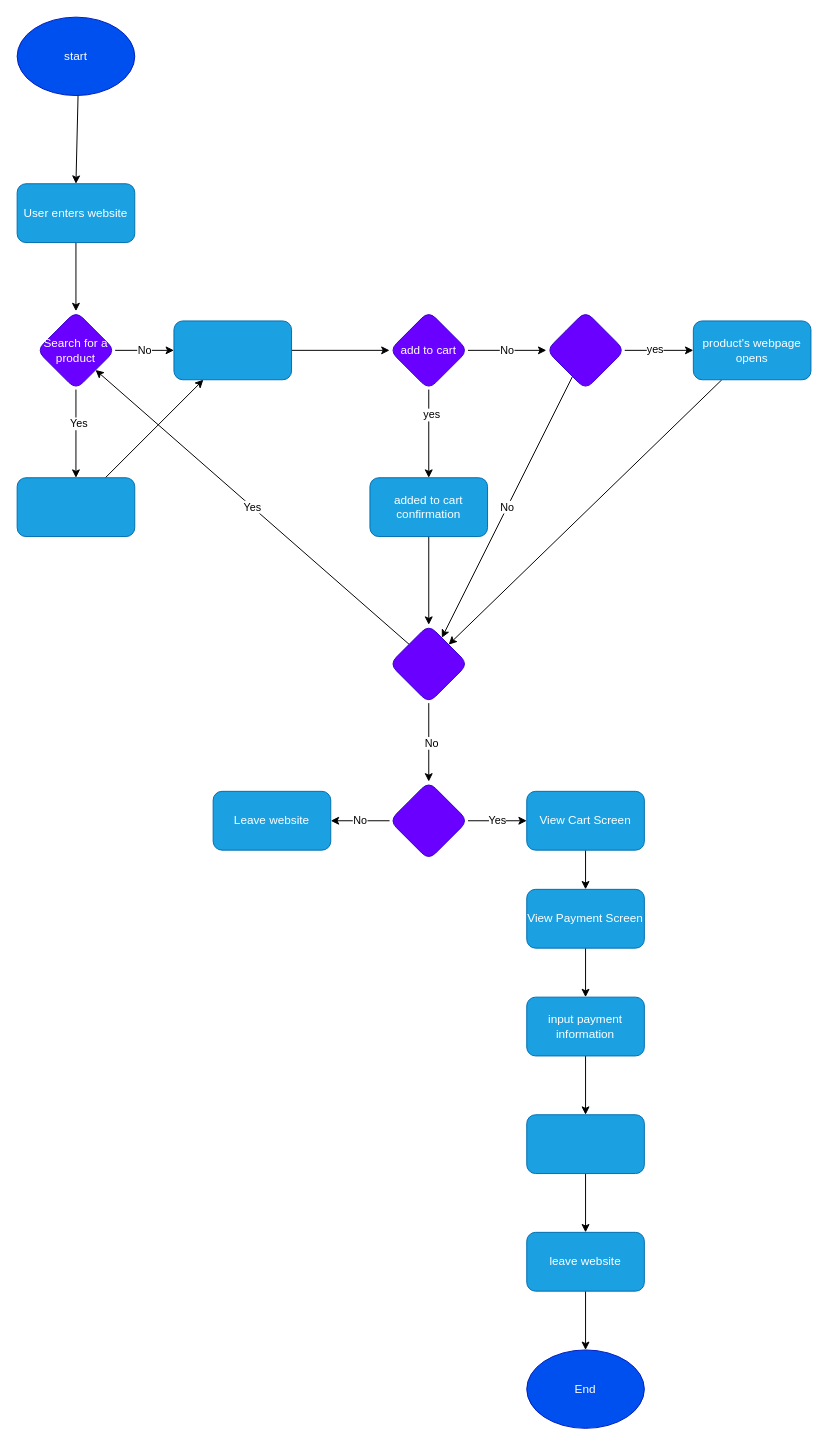
Image size: 828x1446. Some labels were removed from this diagram. Here are the shapes that lost their labels. From the top down, the centre of each, then its label:
(x=232, y=350): look over products
(x=585, y=350): View Item
(x=75, y=507): provide input for search
(x=428, y=663): Continue Shopping
(x=428, y=820): Checkout
(x=585, y=1144): Order Confirmation Screen and recieve email
